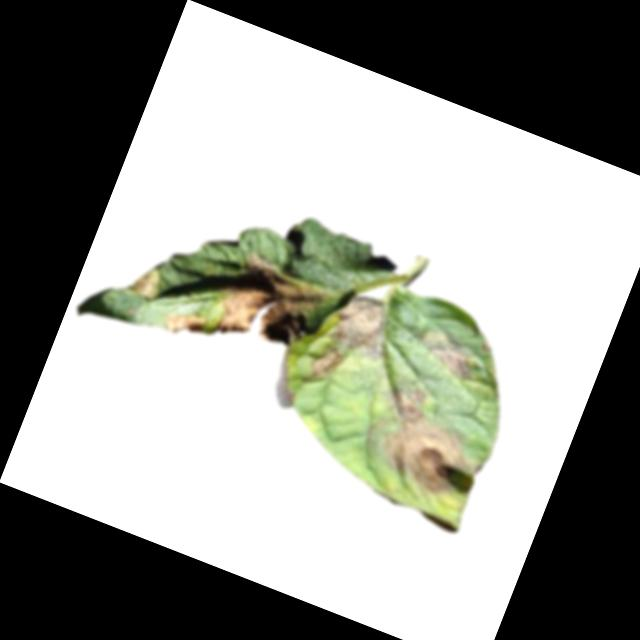Late_blight: (356, 377, 488, 501), (207, 245, 334, 366), (325, 286, 405, 363), (407, 319, 486, 384), (158, 301, 210, 344), (124, 258, 167, 303), (308, 344, 346, 385)
